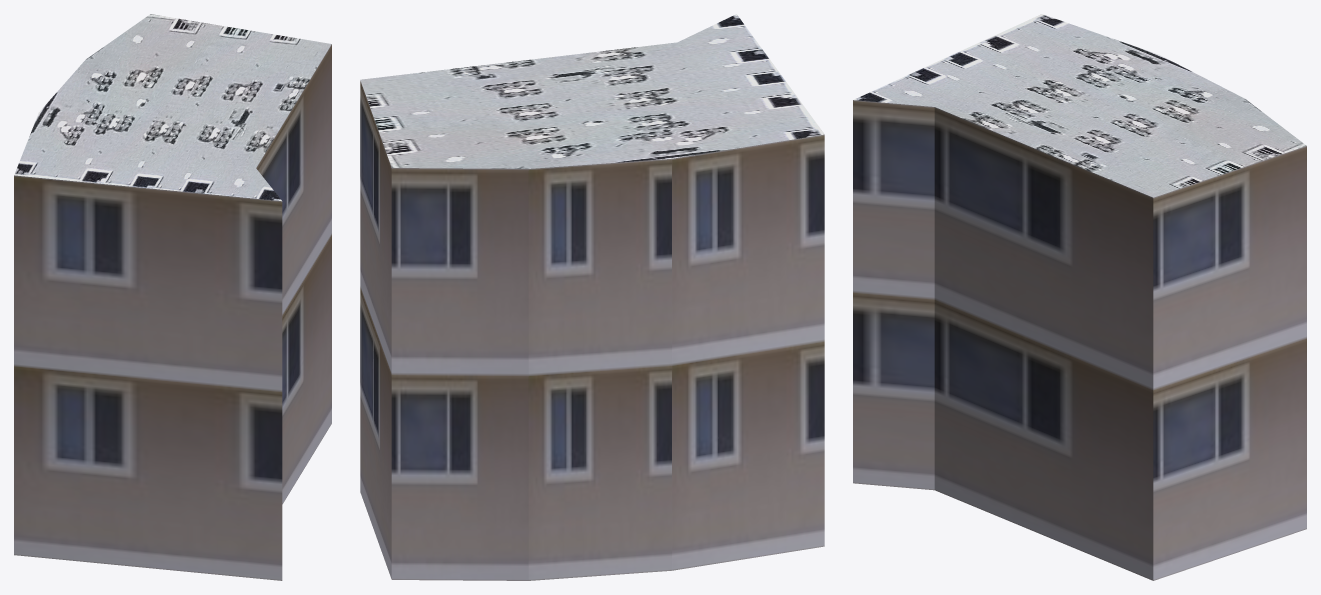
Rendered from ResTex__508.fbx.
3 views of the same model, side by side, from view 1: azimuth 30°, elevation 25°; view 2: azimuth 150°, elevation 25°; view 3: azimuth 270°, elevation 25° (orthographic). The views are drawn at different scales.
Parts seen in each view (by area): view 1: CityEngineMaterial_21_m, CityEngineMaterial_8_m; view 2: CityEngineMaterial_21_m, CityEngineMaterial_8_m; view 3: CityEngineMaterial_21_m, CityEngineMaterial_8_m.
Part boxes in pixels (<box>): CityEngineMaterial_21_m: <box>14,44,331,580</box>; CityEngineMaterial_8_m: <box>14,14,331,201</box>; CityEngineMaterial_21_m: <box>360,81,824,580</box>; CityEngineMaterial_8_m: <box>360,14,824,168</box>; CityEngineMaterial_21_m: <box>853,100,1306,580</box>; CityEngineMaterial_8_m: <box>854,14,1306,197</box>.
Size of the model in its own units: 6.17 by 6 by 6.44.
2 materials, 2 textured.
